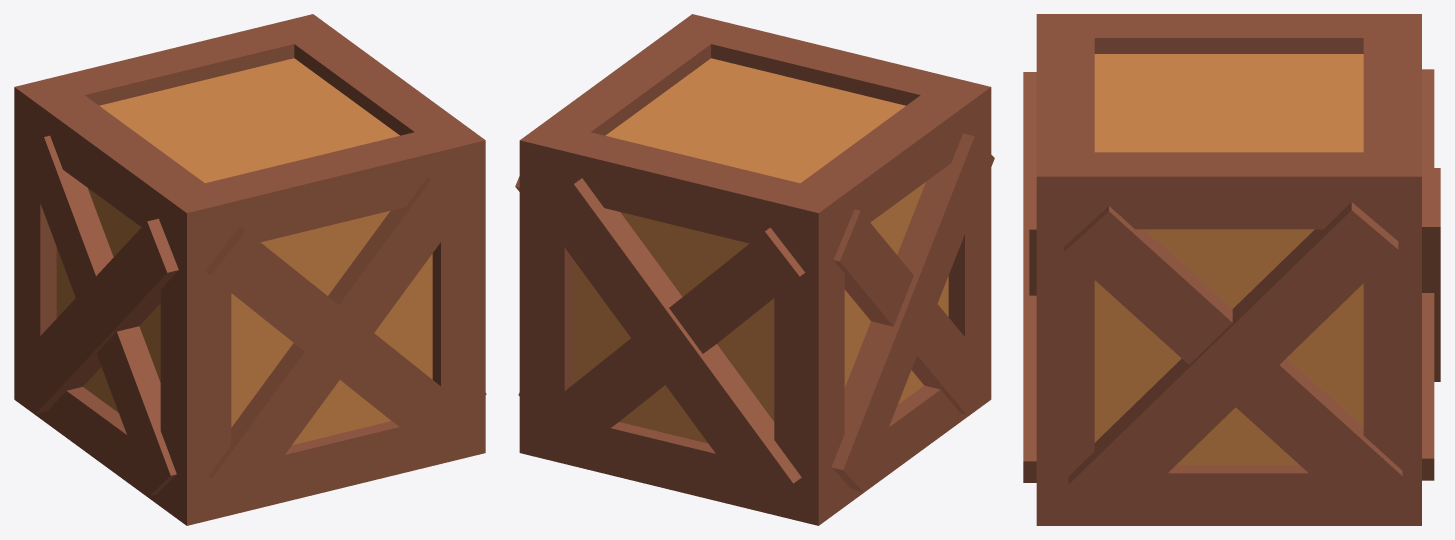
The picture shows the model from 3 angles, left to right: view 1: azimuth 30°, elevation 25°; view 2: azimuth 150°, elevation 25°; view 3: azimuth 270°, elevation 25°; orthographic projection. The views are drawn at different scales.
Visible parts, largest first — view 1: Cube, X.002, X.003, X.006, X.007; view 2: Cube, X.004, X.007, X.005, X.006; view 3: Cube, X, X.001, X.003, X.005, X.004, X.002.
Boxes of the visible parts, x1,y1,x2,y2 form: Cube: (14,14,485,525); X.002: (208,177,466,504); X.003: (205,226,473,457); X.006: (23,135,176,495); X.007: (16,218,178,413); Cube: (519,14,991,525); X.004: (538,178,801,509); X.007: (831,133,994,491); X.005: (537,227,804,458); X.006: (834,209,987,414); Cube: (1036,14,1421,525); X: (1068,202,1398,523); X.001: (1064,206,1402,516); X.003: (1023,72,1036,482); X.005: (1422,69,1434,480); X.004: (1422,168,1440,381); X.002: (1029,170,1036,295).
Size of the model in its own units: 2.18 by 2 by 2.17.
2 materials, 2 textured.
